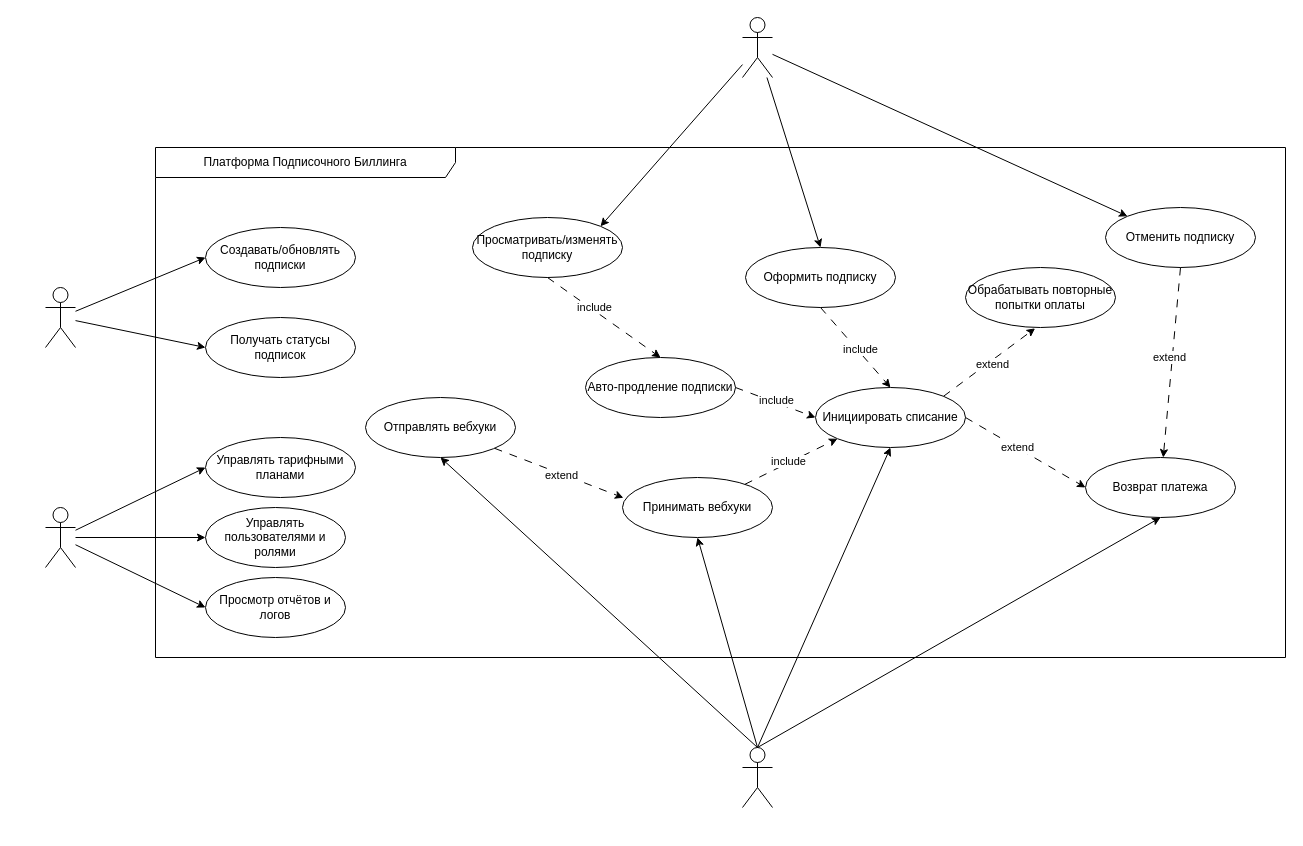
Image size: 1303x846. Some labels were removed from this diagram. Here are the shapes that lost their labels. From the top down, the centre of each, then its label:
At point (757, 47): "B2C Клиент".
At point (60, 317): "B2B Клиент".
At point (60, 537): "Администратор".
At point (757, 777): "Платежный провайдер".
